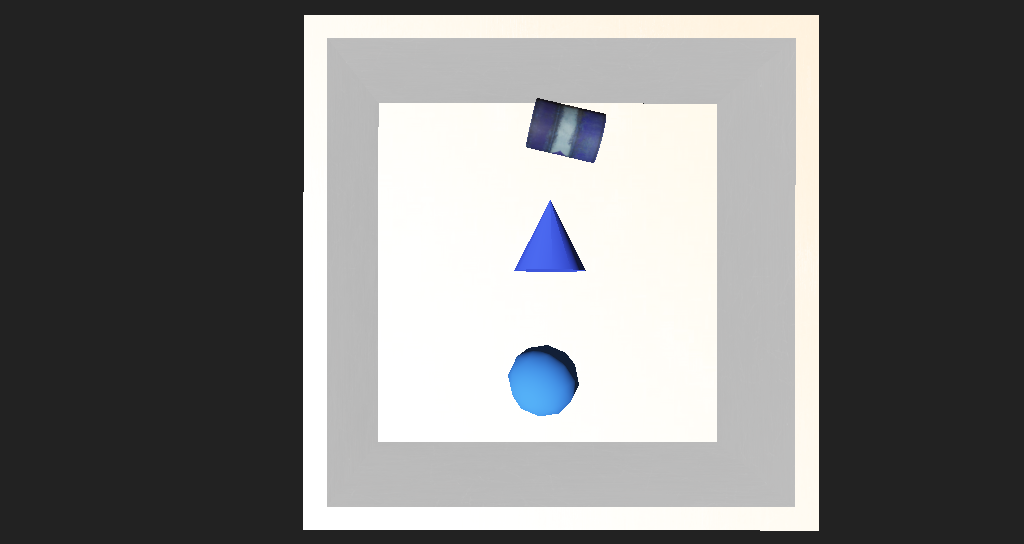cone: (488, 153, 563, 200)
cylinder: (482, 220, 542, 267)
sphere: (465, 317, 532, 360)
